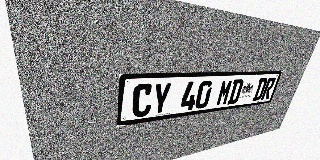0: (194, 80, 213, 109)
4: (180, 81, 200, 111)
C: (131, 83, 154, 118)
D: (227, 79, 244, 105), (252, 78, 268, 101)
M: (215, 79, 234, 106)
R: (261, 77, 276, 100)
Y: (151, 82, 172, 115)
